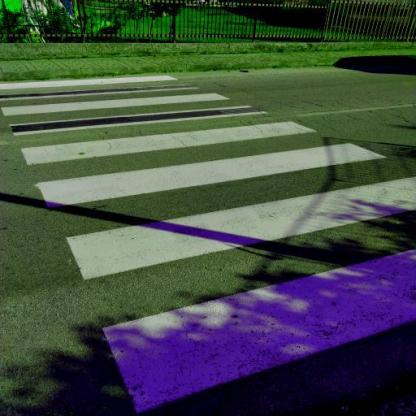crosswalk: (17, 116, 388, 218)
